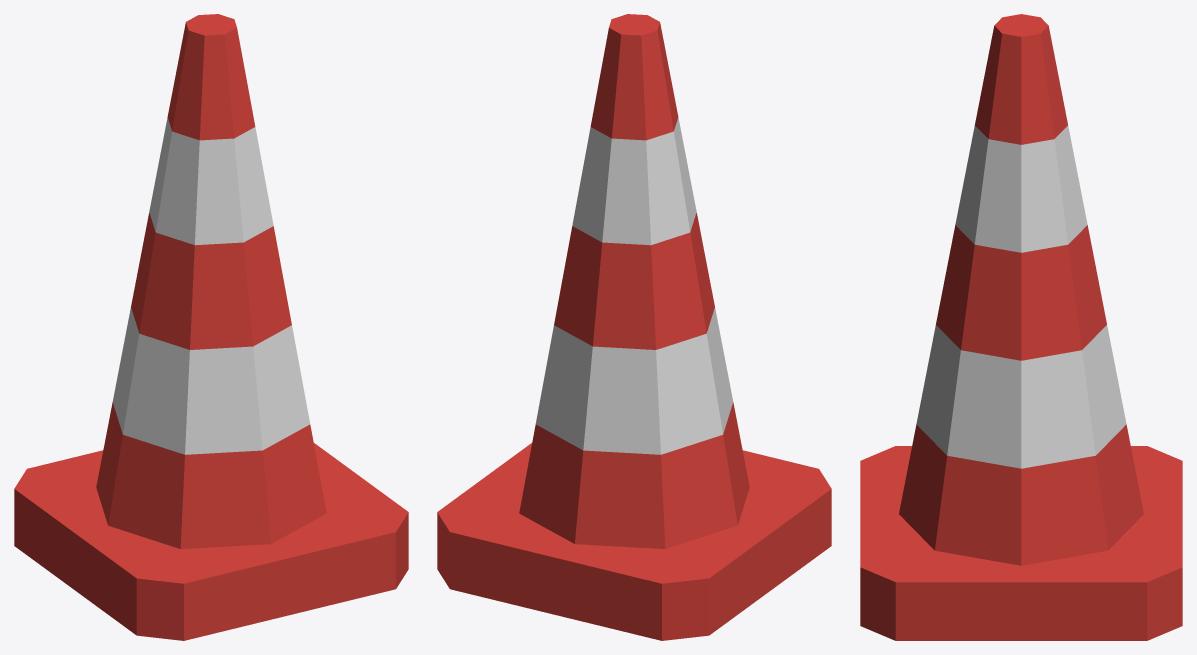
File: Sign_01.fbx
3 views of the same model, side by side, from view 1: azimuth 30°, elevation 25°; view 2: azimuth 150°, elevation 25°; view 3: azimuth 270°, elevation 25° (orthographic). The views are drawn at different scales.
Parts seen in each view (by area): view 1: Sign_01; view 2: Sign_01; view 3: Sign_01.
Boxes of the visible parts, x1,y1,x2,y2 form: Sign_01: (14,14,408,640); Sign_01: (437,14,831,640); Sign_01: (860,14,1182,640).
Size of the model in its own units: 22.43 by 41.98 by 22.43.
